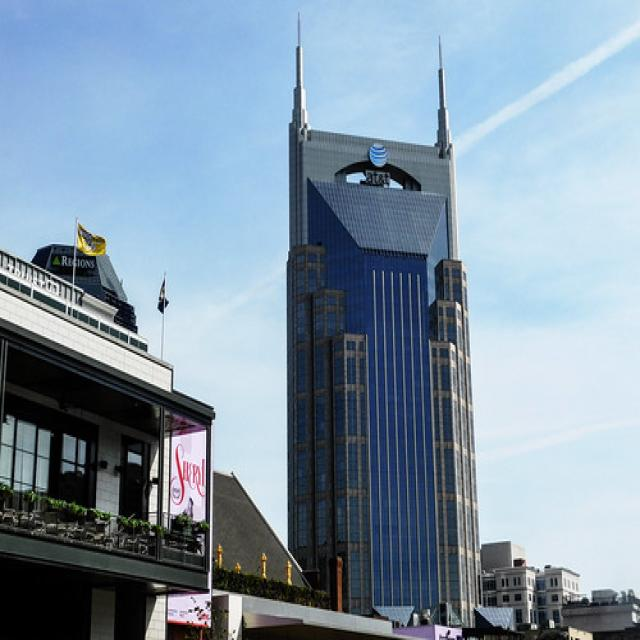Normal_building: (283, 109, 485, 640)
